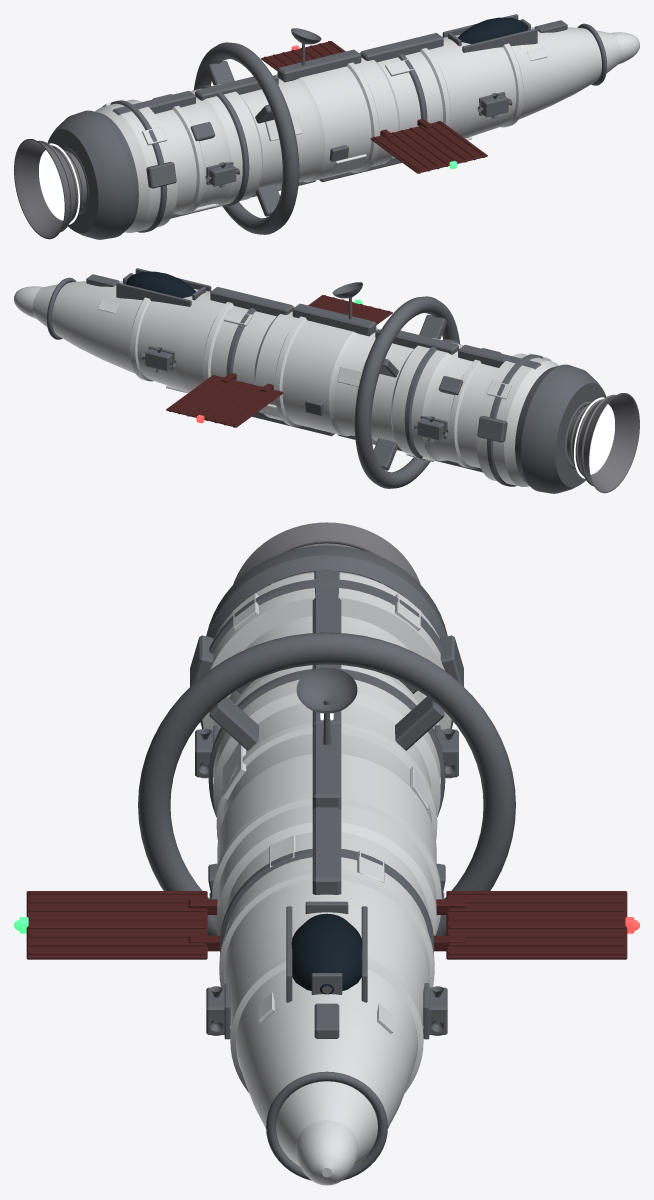
Rendered from ship.glb.
3 views of the same model, one above another, from view 1: azimuth 30°, elevation 25°; view 2: azimuth 150°, elevation 25°; view 3: azimuth 270°, elevation 25° (orthographic). The views are drawn at different scales.
Visible parts, largest first — view 1: hull, hull_frame, engine_skirt, drive_ring, engine_nozzle, radiator_S, engine_glow_disc, canopy, engine_assembly, radiator_P, rcs_pod_4, rcs_pod_2 (+1 smaller); view 2: hull, hull_frame, engine_skirt, drive_ring, engine_nozzle, radiator_P, engine_glow_disc, canopy, engine_assembly, radiator_S, rcs_pod_3, rcs_pod_1 (+1 smaller); view 3: hull, drive_ring, hull_frame, radiator_P, radiator_S, engine_skirt, canopy, hull_tip, engine_nozzle, rcs_pod_1, rcs_pod_2.
Boxes of the visible parts, bbox=[...] form: hull: bbox=[95, 27, 621, 232]; hull_frame: bbox=[110, 14, 606, 232]; engine_skirt: bbox=[47, 110, 138, 239]; drive_ring: bbox=[194, 42, 299, 234]; engine_nozzle: bbox=[14, 139, 86, 239]; radiator_S: bbox=[370, 119, 487, 173]; engine_glow_disc: bbox=[39, 143, 79, 224]; canopy: bbox=[458, 17, 527, 44]; engine_assembly: bbox=[38, 140, 88, 232]; radiator_P: bbox=[261, 41, 345, 70]; rcs_pod_4: bbox=[205, 162, 239, 188]; rcs_pod_2: bbox=[477, 92, 512, 118]; hull: bbox=[32, 281, 558, 486]; hull_frame: bbox=[47, 268, 543, 486]; engine_skirt: bbox=[515, 364, 606, 493]; drive_ring: bbox=[354, 296, 459, 488]; engine_nozzle: bbox=[567, 393, 639, 493]; radiator_P: bbox=[166, 373, 283, 427]; engine_glow_disc: bbox=[574, 397, 614, 478]; canopy: bbox=[126, 271, 195, 298]; engine_assembly: bbox=[565, 394, 615, 486]; radiator_S: bbox=[308, 295, 392, 324]; rcs_pod_3: bbox=[414, 416, 448, 442]; rcs_pod_1: bbox=[141, 346, 176, 372]; hull: bbox=[202, 572, 451, 1166]; drive_ring: bbox=[138, 632, 515, 935]; hull_frame: bbox=[190, 570, 463, 1180]; radiator_P: bbox=[433, 891, 627, 959]; radiator_S: bbox=[26, 891, 220, 959]; engine_skirt: bbox=[206, 545, 447, 638]; canopy: bbox=[291, 913, 362, 994]; hull_tip: bbox=[295, 1120, 358, 1185]; engine_nozzle: bbox=[233, 522, 420, 584]; rcs_pod_1: bbox=[423, 983, 447, 1039]; rcs_pod_2: bbox=[206, 983, 230, 1039].
Size of the model in its own units: 26.12 by 7.67 by 12.32.
